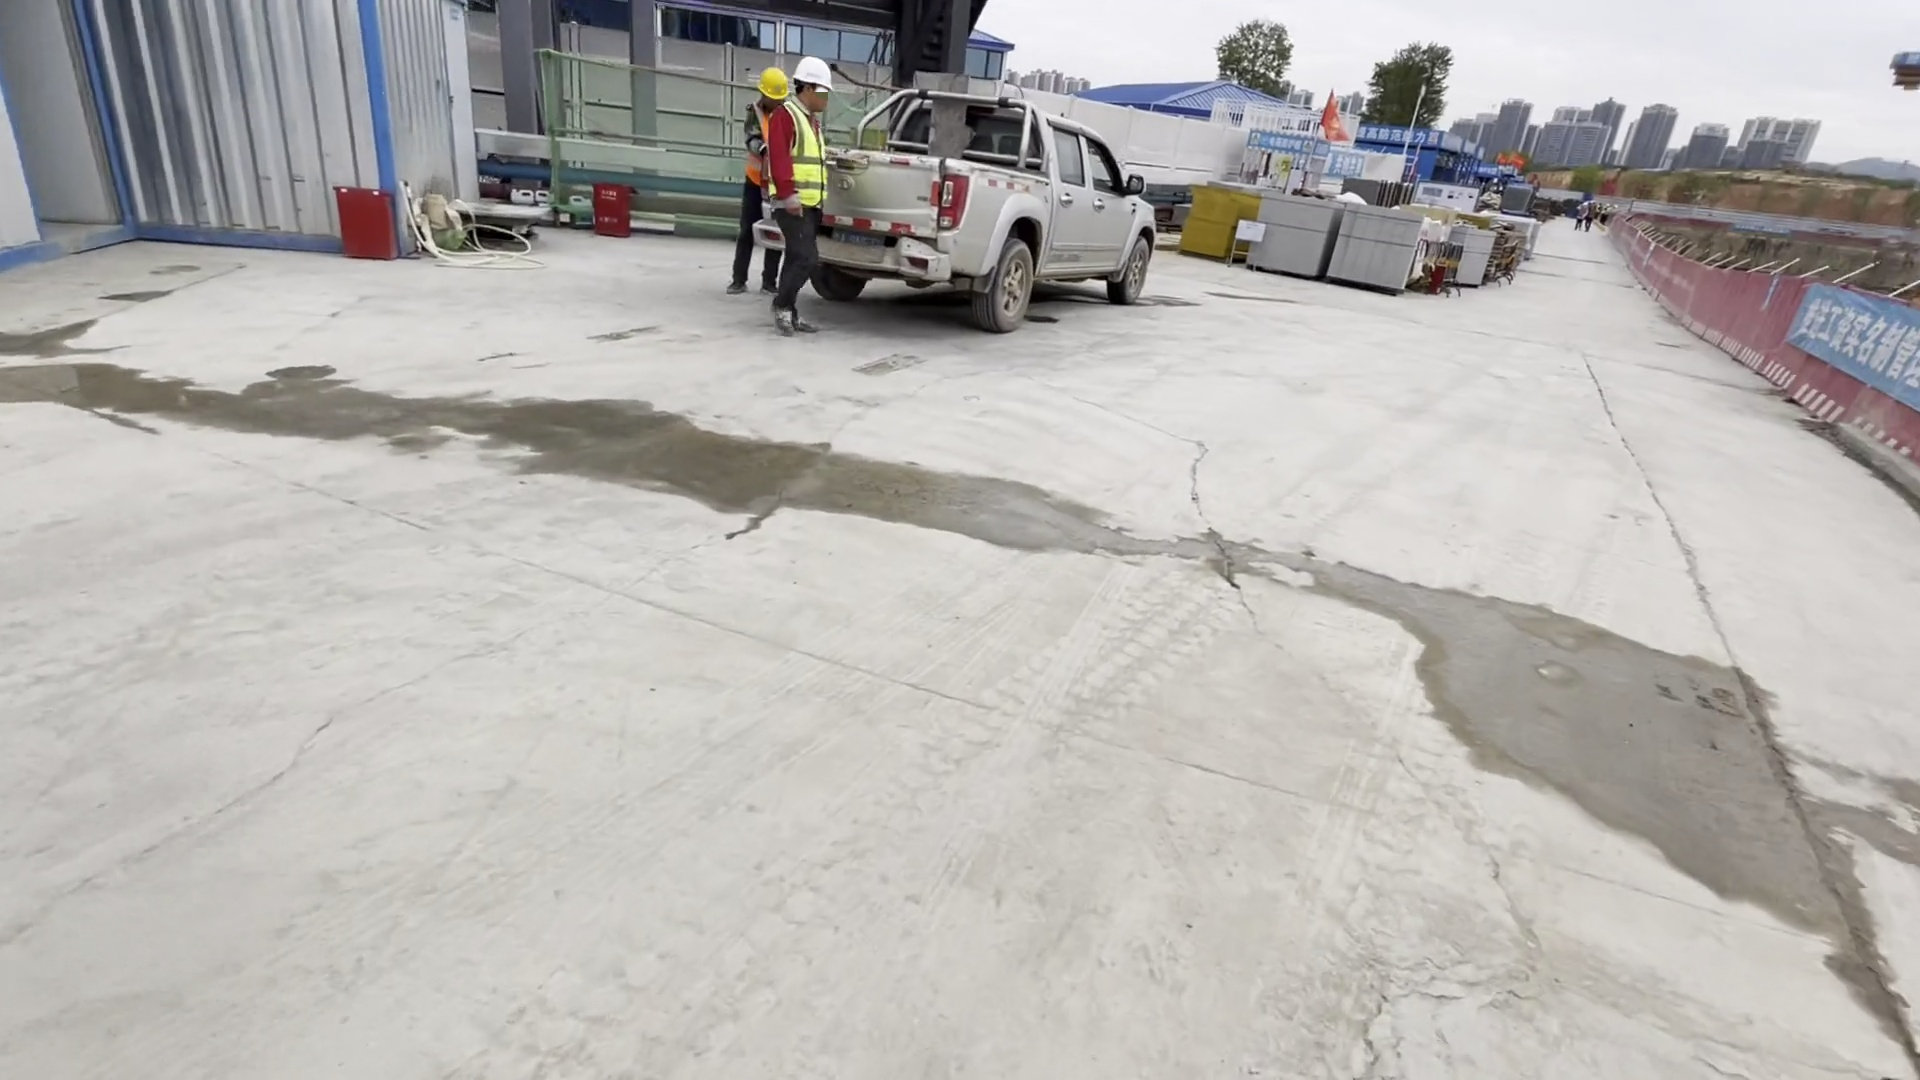board: (1175, 181, 1254, 267)
brick: (1250, 189, 1422, 298), (1442, 219, 1497, 297)
fence: (1601, 200, 1920, 521)
helmet: (794, 57, 833, 89), (757, 68, 788, 101)
person: (782, 56, 828, 333), (734, 64, 780, 306)
slogan: (1787, 285, 1920, 411)
vest: (781, 108, 829, 207), (749, 108, 777, 182)
